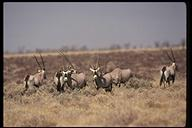antelope: (53, 52, 79, 97), (23, 51, 48, 96), (60, 53, 87, 94), (158, 48, 181, 89), (87, 61, 114, 93)
grass: (5, 97, 185, 125)
sky: (5, 4, 185, 46)
